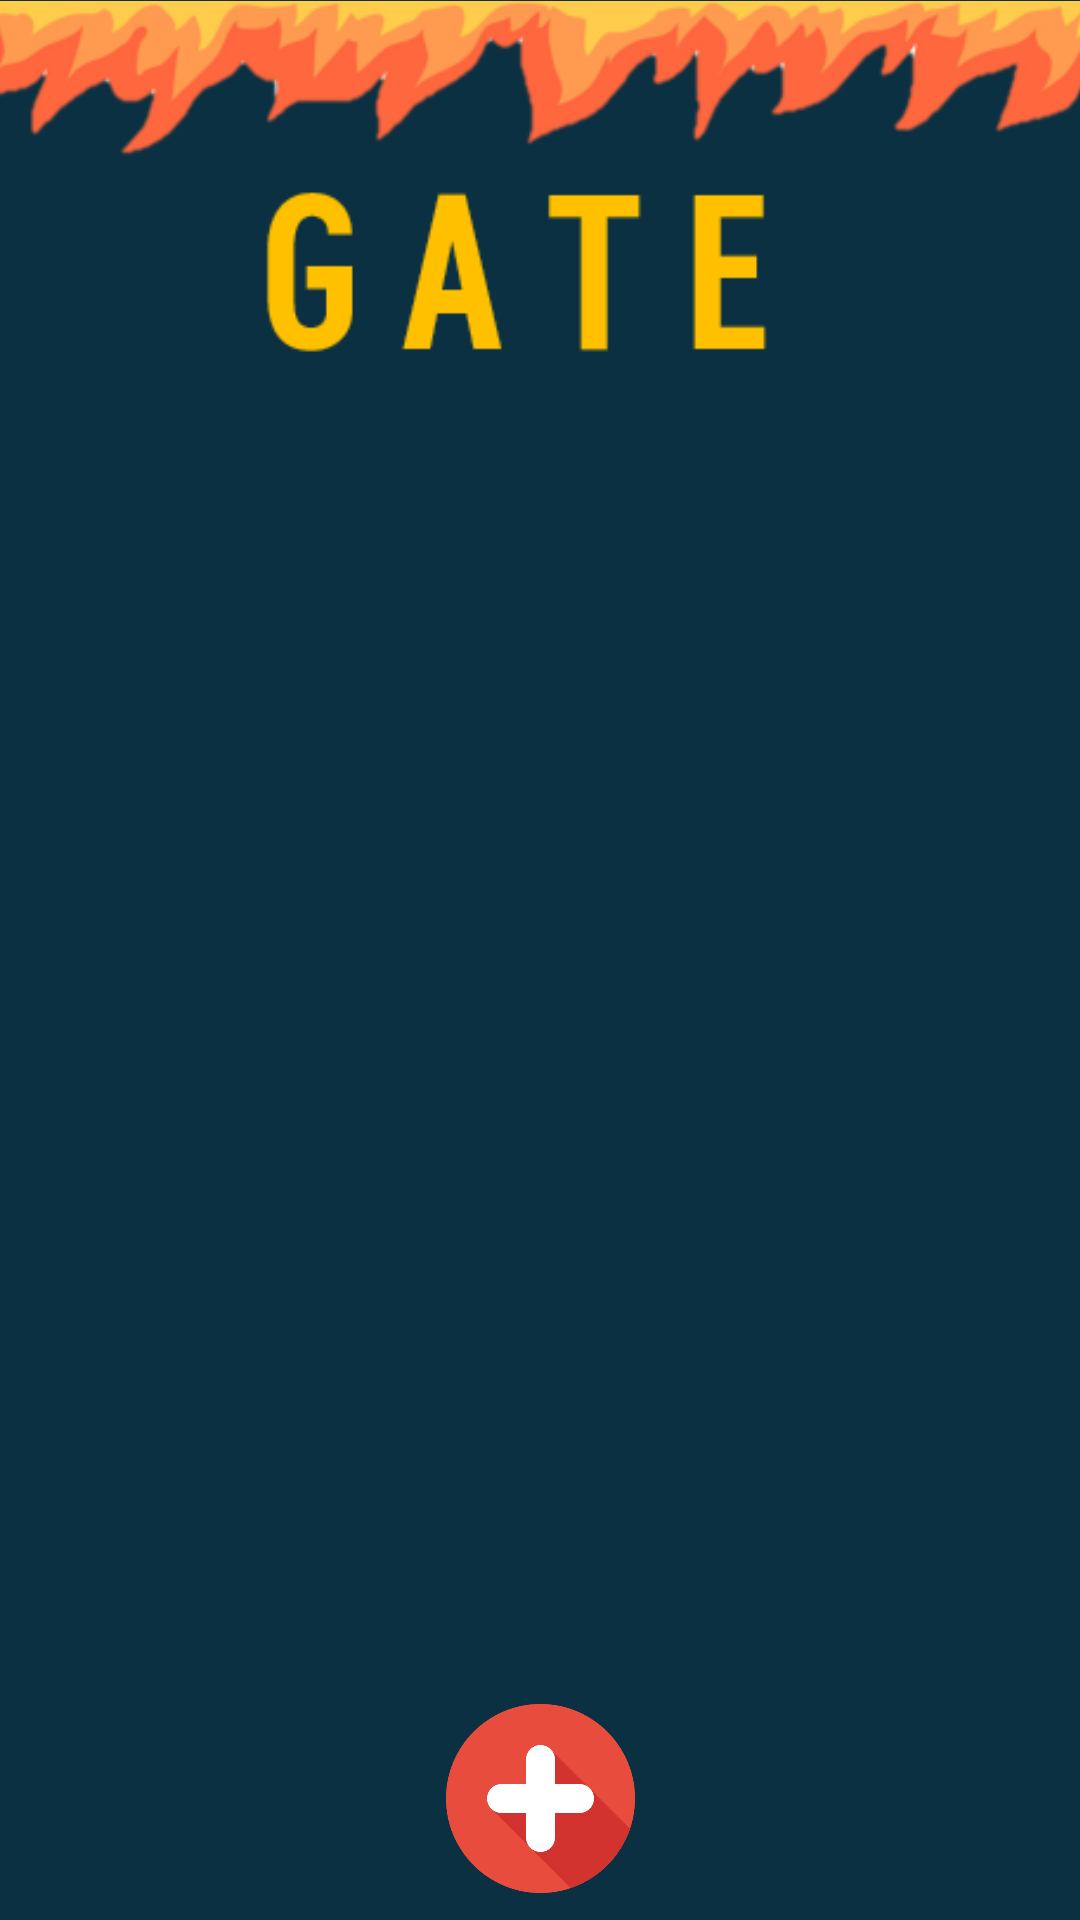

Screen size 1080px x 1920px. Icon name, then its box in pixels as bbox(x1, y1, x2, y2):
plus: bbox(446, 1704, 635, 1893)
